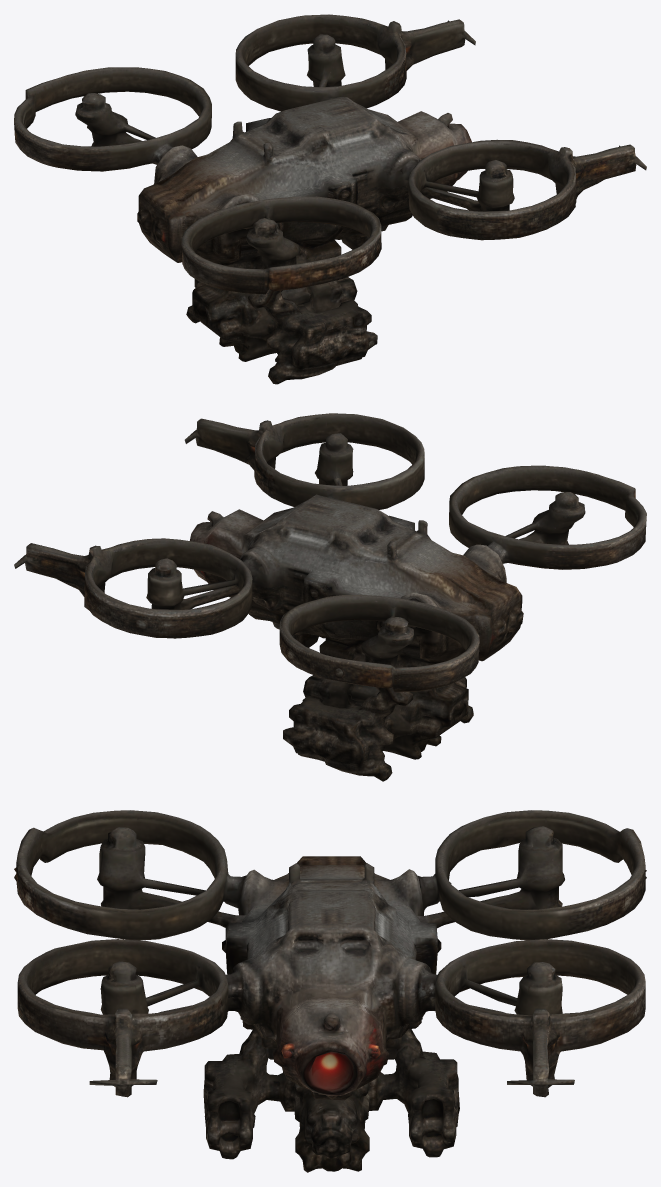
Rendered from enemy-drone.glb.
3 renders of one model, top to bottom at view 1: azimuth 30°, elevation 25°; view 2: azimuth 150°, elevation 25°; view 3: azimuth 270°, elevation 25°, orthographic. The views are drawn at different scales.
Visible parts, largest first — view 1: tripo_node_fc8591f9-f5fb-4749-9497-f2048cc1b1e5; view 2: tripo_node_fc8591f9-f5fb-4749-9497-f2048cc1b1e5; view 3: tripo_node_fc8591f9-f5fb-4749-9497-f2048cc1b1e5.
Boxes of the visible parts, x1,y1,x2,y2 form: tripo_node_fc8591f9-f5fb-4749-9497-f2048cc1b1e5: (14,14,646,384); tripo_node_fc8591f9-f5fb-4749-9497-f2048cc1b1e5: (14,413,646,781); tripo_node_fc8591f9-f5fb-4749-9497-f2048cc1b1e5: (14,810,646,1172).
Bounding box in the file's own units: 0.9863 × 0.4707 × 0.998.
1 material, 1 textured.
